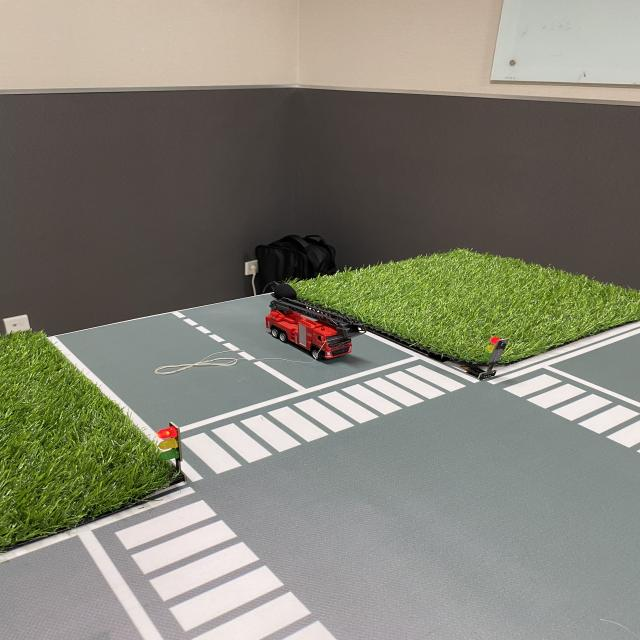Fire Truck: (262, 295, 372, 364)
